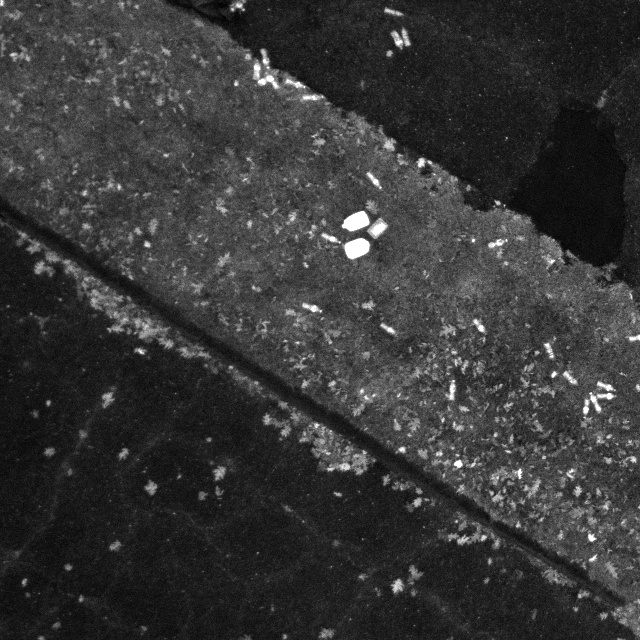bottle: (253, 68, 278, 91), (281, 74, 309, 93), (247, 57, 264, 87), (587, 389, 605, 417), (484, 236, 511, 254), (365, 168, 384, 192), (300, 89, 327, 105), (471, 314, 489, 337), (378, 321, 399, 340), (563, 368, 581, 390), (445, 376, 459, 403), (389, 28, 404, 52), (301, 301, 323, 317), (258, 44, 270, 73), (320, 231, 344, 245), (542, 339, 557, 360), (581, 395, 592, 422)
can: (340, 207, 372, 235), (342, 236, 372, 261)
container: (364, 217, 392, 242)
